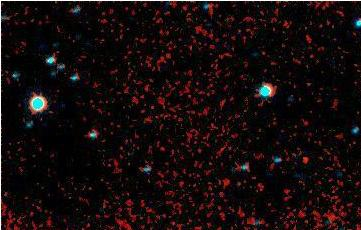star: (288, 143, 318, 173)
